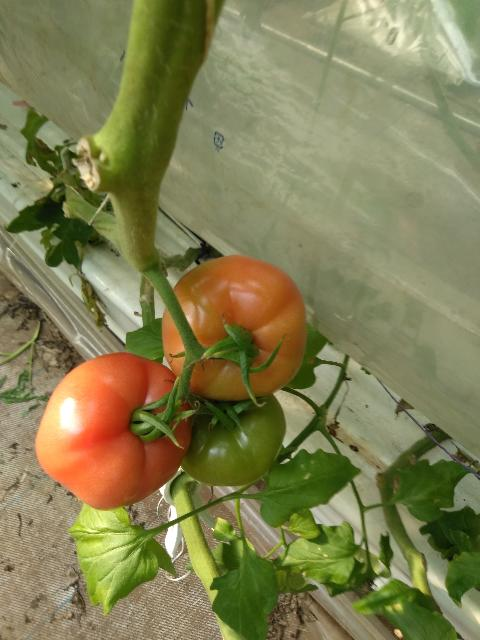b_green: (180, 394, 287, 486)
b_half_ripened: (34, 352, 191, 511), (162, 254, 306, 402)
